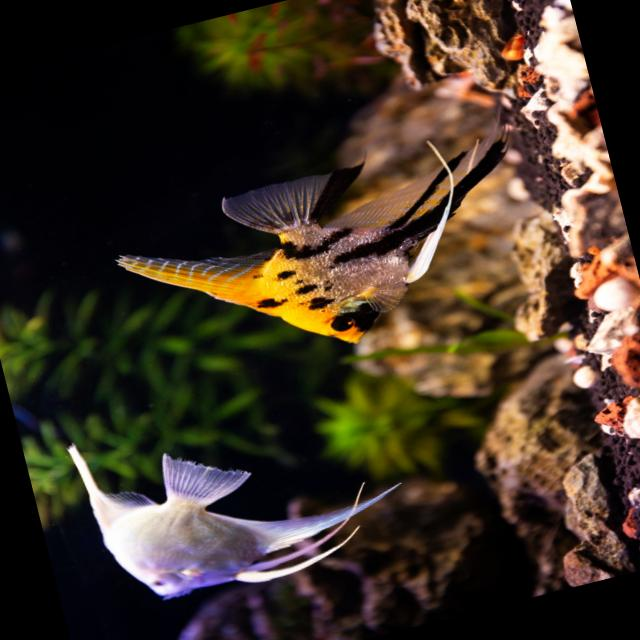AngelFish: (106, 130, 519, 390), (65, 380, 383, 618)
